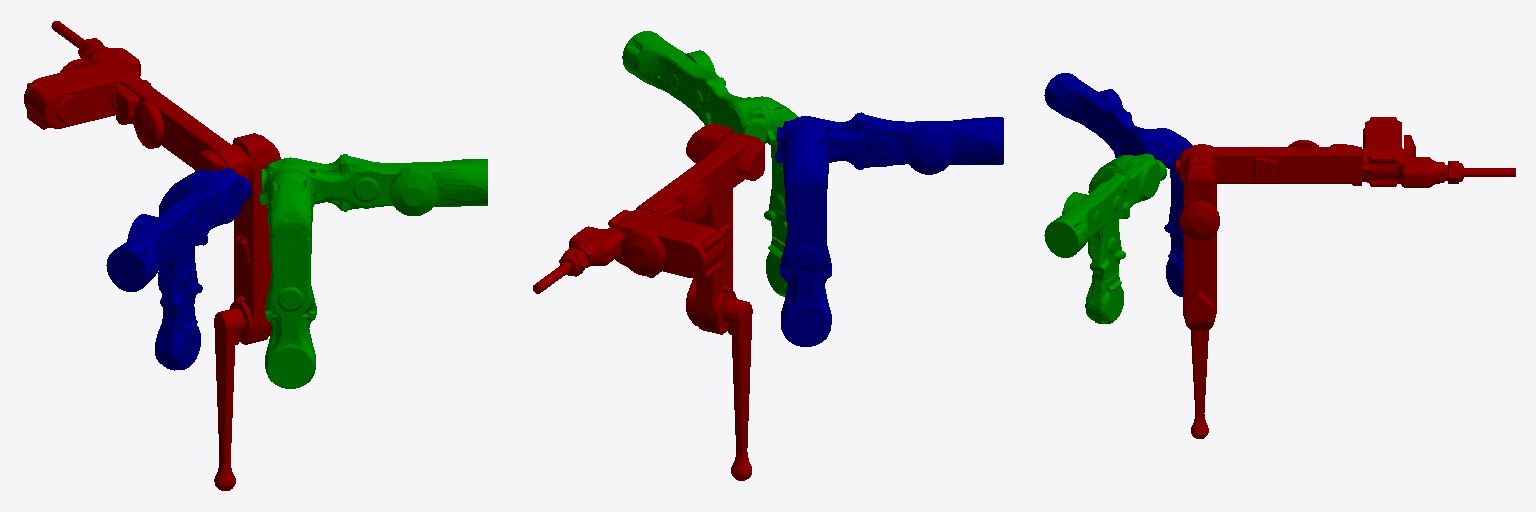
robot.urdf — finger_with_stage:
<?xml version="1.0" encoding="utf-8"?>
<!-- =================================================================================== -->
<!-- |    This document was autogenerated by xacro from [local-path]/ws/fingers/workspace/src/catkin/robots/robot_properties/robot_properties_fingers/xacro/trifinger.urdf.xacro | -->
<!-- |    EDITING THIS FILE BY HAND IS NOT RECOMMENDED                                 | -->
<!-- =================================================================================== -->
<robot name="finger_with_stage">
  <!--
    Frames are defined such that they all align with the base frame when all
    joints are at position zero.

    In zero-configuration the origins of all joints are in one line.

    In zero-configuration the origin of the base link is exactly above the
    finger tip which should make it easy to place the finger in the world.
    -->
  <!-- Define the global base_link and place all other objects relative to it. -->
  <link name="base_link">
    <inertial>
      <origin rpy="0 0 0" xyz="0 0 0"/>
      <mass value="1"/>
      <inertia ixx="4.16666666667e-06" ixy="0" ixz="0" iyy="4.16666666667e-06" iyz="0" izz="4.16666666667e-06"/>
    </inertial>
  </link>
  <!-- Define the upper holder -->
  <link name="upper_holder_link">
    <inertial>
      <origin rpy="0 0 0" xyz="0 0 0"/>
      <mass value="1"/>
      <inertia ixx="4.16666666667e-06" ixy="0" ixz="0" iyy="4.16666666667e-06" iyz="0" izz="4.16666666667e-06"/>
    </inertial>
  </link>
  <joint name="base_to_upper_holder_joint" type="fixed">
    <parent link="base_link"/>
    <child link="upper_holder_link"/>
    <origin xyz="0 0 0.34"/>
  </joint>
  <material name="finger_0_material">
    <color rgba="0.6 0.0 0.0 1.0"/>
  </material>
  <material name="finger_120_material">
    <color rgba="0.0 0.6 0.0 1.0"/>
  </material>
  <material name="finger_240_material">
    <color rgba="0.0 0.0 0.6 1.0"/>
  </material>
  <!--
        Fixed links for the finger base (parts where the upper link is mounted).
        -->
  <link name="finger_base_link_0">
    <visual>
      <origin rpy="0 0 0" xyz="0 0.179 0"/>
      <geometry>
        <mesh filename="package://robot_properties_fingers/meshes/stl/SIM__BL-Finger_Base.obj" scale="1 1 1"/>
      </geometry>
      <material name="finger_0_material"/>
    </visual>
    <collision>
      <origin rpy="0 0 0" xyz="0 0.179 0"/>
      <geometry>
        <mesh filename="package://robot_properties_fingers/meshes/stl/SIM__BL-Finger_Base.obj" scale="1 1 1"/>
      </geometry>
    </collision>
    <inertial>
      <origin rpy="0 0 0" xyz="0 0 0"/>
      <mass value="1"/>
      <inertia ixx="0.000416666666667" ixy="0" ixz="0" iyy="0.000416666666667" iyz="0" izz="0.000416666666667"/>
    </inertial>
  </link>
  <!-- The movable links (upper, middle and lower) of the finger. -->
  <!-- TODO inertia parameters don't look correct, they cant be same for upper and middle! -->
  <link name="finger_upper_link_0">
    <visual>
      <origin rpy="0 0 0" xyz="0 -0.02695 0"/>
      <geometry>
        <mesh filename="package://robot_properties_fingers/meshes/stl/SIM__BL-Finger_Proximal.obj" scale="1 1 1"/>
      </geometry>
      <material name="finger_0_material"/>
    </visual>
    <collision>
      <origin rpy="0 0 0" xyz="0 -0.02695 0"/>
      <geometry>
        <mesh filename="package://robot_properties_fingers/meshes/stl/SIM__BL-Finger_Proximal.obj" scale="1 1 1"/>
      </geometry>
    </collision>
    <inertial>
      <origin rpy="0 0 0" xyz="0 0.06 0"/>
      <mass value="0.2"/>
      <inertia ixx="0.000353333333333" ixy="0" ixz="0" iyy="5.33333333333e-05" iyz="0" izz="0.000353333333333"/>
    </inertial>
  </link>
  <link name="finger_middle_link_0">
    <visual>
      <origin rpy="1.57079632679 0 0" xyz="0.014 0 0"/>
      <geometry>
        <mesh filename="package://robot_properties_fingers/meshes/stl/SIM__BL-Finger_Intermediate.obj" scale="1 1 1"/>
      </geometry>
      <material name="finger_0_material"/>
    </visual>
    <collision>
      <origin rpy="1.57079632679 0 0" xyz="0.014 0 0"/>
      <geometry>
        <mesh filename="package://robot_properties_fingers/meshes/stl/SIM__BL-Finger_Intermediate.obj" scale="1 1 1"/>
      </geometry>
    </collision>
    <inertial>
      <origin rpy="0 0 0" xyz="0.028 0 -0.08"/>
      <mass value="0.2"/>
      <inertia ixx="0.000353333333333" ixy="0" ixz="0" iyy="0.000353333333333" iyz="0" izz="5.33333333333e-05"/>
    </inertial>
  </link>
  <link name="finger_lower_link_0">
    <visual>
      <origin rpy="1.57079632679 0 0" xyz="0.014 0 0"/>
      <geometry>
        <mesh filename="package://robot_properties_fingers/meshes/stl/SIM_BL_FINGER_TIP_LINK.obj" scale="1 1 1"/>
      </geometry>
      <material name="finger_0_material"/>
    </visual>
    <collision>
      <origin rpy="1.57079632679 0 0" xyz="0.014 0 0"/>
      <geometry>
        <mesh filename="package://robot_properties_fingers/meshes/convex_SIM_BL_FINGER_TIP_LINK/convex_0.obj" scale="1 1 1"/>
      </geometry>
    </collision>
    <collision>
      <origin rpy="1.57079632679 0 0" xyz="0.014 0 0"/>
      <geometry>
        <mesh filename="package://robot_properties_fingers/meshes/convex_SIM_BL_FINGER_TIP_LINK/convex_1.obj" scale="1 1 1"/>
      </geometry>
    </collision>
    <collision>
      <origin rpy="1.57079632679 0 0" xyz="0.014 0 0"/>
      <geometry>
        <mesh filename="package://robot_properties_fingers/meshes/convex_SIM_BL_FINGER_TIP_LINK/convex_2.obj" scale="1 1 1"/>
      </geometry>
    </collision>
    <collision>
      <origin rpy="1.57079632679 0 0" xyz="0.014 0 0"/>
      <geometry>
        <mesh filename="package://robot_properties_fingers/meshes/convex_SIM_BL_FINGER_TIP_LINK/convex_3.obj" scale="1 1 1"/>
      </geometry>
    </collision>
    <collision>
      <origin rpy="1.57079632679 0 0" xyz="0.014 0 0"/>
      <geometry>
        <mesh filename="package://robot_properties_fingers/meshes/convex_SIM_BL_FINGER_TIP_LINK/convex_4.obj" scale="1 1 1"/>
      </geometry>
    </collision>
    <inertial>
      <origin rpy="0 0 0" xyz="0 0 -0.06"/>
      <mass value="0.01"/>
      <inertia ixx="1.66666666667e-05" ixy="0" ixz="0" iyy="1.66666666667e-05" iyz="0" izz="6.66666666667e-07"/>
    </inertial>
  </link>
  <!-- fixed link for finger tip -->
  <link name="finger_tip_link_0">
    <inertial>
      <origin rpy="0 0 0" xyz="0 0 0"/>
      <mass value="0.02"/>
      <inertia ixx="3.33333333333e-07" ixy="0" ixz="0" iyy="3.33333333333e-07" iyz="0" izz="3.33333333333e-07"/>
    </inertial>
  </link>
  <joint name="finger_lower_to_tip_joint_0" type="fixed">
    <parent link="finger_lower_link_0"/>
    <child link="finger_tip_link_0"/>
    <origin xyz="0 0 -0.16"/>
  </joint>
  <!-- kinematics -->
  <!-- TODO: joint limits are based on values from wiki
        (https://atlas.is.localnet/confluence/display/AMDW/Forward+Kinematics) but
        should be verified on the real system (especially the finger tip limits look
        a bit too big when visualizing the model. -->
  <joint name="finger_base_to_upper_joint_0" type="revolute">
    <parent link="finger_base_link_0"/>
    <child link="finger_upper_link_0"/>
    <limit effort="1000" lower="-1.57079632679" upper="1.57079632679" velocity="1000"/>
    <axis xyz="0 1 0"/>
    <origin rpy="0 0 0" xyz="0 0 0"/>
  </joint>
  <joint name="finger_upper_to_middle_joint_0" type="revolute">
    <parent link="finger_upper_link_0"/>
    <child link="finger_middle_link_0"/>
    <limit effort="1000" lower="-1.3526301703" upper="4.49422282389" velocity="1000"/>
    <axis xyz="-1 0 0"/>
    <origin rpy="0 0 0" xyz="0 0 0"/>
  </joint>
  <joint name="finger_middle_to_lower_joint_0" type="revolute">
    <parent link="finger_middle_link_0"/>
    <child link="finger_lower_link_0"/>
    <limit effort="1000" lower="-3.00196631343" upper="3.00196631343" velocity="1000"/>
    <axis xyz="1 0 0"/>
    <origin rpy="0 0 0" xyz="0 0 -0.16"/>
  </joint>
  <!--
        Fixed links for the finger base (parts where the upper link is mounted).
        -->
  <link name="finger_base_link_120">
    <visual>
      <origin rpy="0 0 0" xyz="0 0.179 0"/>
      <geometry>
        <mesh filename="package://robot_properties_fingers/meshes/stl/SIM__BL-Finger_Base.stl" scale="1 1 1"/>
      </geometry>
      <material name="finger_120_material"/>
    </visual>
    <collision>
      <origin rpy="0 0 0" xyz="0 0.179 0"/>
      <geometry>
        <mesh filename="package://robot_properties_fingers/meshes/stl/SIM__BL-Finger_Base.stl" scale="1 1 1"/>
      </geometry>
    </collision>
    <inertial>
      <origin rpy="0 0 0" xyz="0 0 0"/>
      <mass value="1"/>
      <inertia ixx="0.000416666666667" ixy="0" ixz="0" iyy="0.000416666666667" iyz="0" izz="0.000416666666667"/>
    </inertial>
  </link>
  <!-- The movable links (upper, middle and lower) of the finger. -->
  <!-- TODO inertia parameters don't look correct, they cant be same for upper and middle! -->
  <link name="finger_upper_link_120">
    <visual>
      <origin rpy="0 0 0" xyz="0 -0.02695 0"/>
      <geometry>
        <mesh filename="package://robot_properties_fingers/meshes/stl/SIM__BL-Finger_Proximal.stl" scale="1 1 1"/>
      </geometry>
      <material name="finger_120_material"/>
    </visual>
    <collision>
      <origin rpy="0 0 0" xyz="0 -0.02695 0"/>
      <geometry>
        <mesh filename="package://robot_properties_fingers/meshes/stl/SIM__BL-Finger_Proximal.stl" scale="1 1 1"/>
      </geometry>
    </collision>
    <inertial>
      <origin rpy="0 0 0" xyz="0 0.06 0"/>
      <mass value="0.2"/>
      <inertia ixx="0.000353333333333" ixy="0" ixz="0" iyy="5.33333333333e-05" iyz="0" izz="0.000353333333333"/>
    </inertial>
  </link>
  <link name="finger_middle_link_120">
    <visual>
      <origin rpy="1.57079632679 0 0" xyz="0.014 0 0"/>
      <geometry>
        <mesh filename="package://robot_properties_fingers/meshes/stl/SIM__BL-Finger_Intermediate.stl" scale="1 1 1"/>
      </geometry>
      <material name="finger_120_material"/>
    </visual>
    <collision>
      <origin rpy="1.57079632679 0 0" xyz="0.014 0 0"/>
      <geometry>
        <mesh filename="package://robot_properties_fingers/meshes/stl/SIM__BL-Finger_Intermediate.stl" scale="1 1 1"/>
      </geometry>
    </collision>
    <inertial>
      <origin rpy="0 0 0" xyz="0.028 0 -0.08"/>
      <mass value="0.2"/>
      <inertia ixx="0.000353333333333" ixy="0" ixz="0" iyy="0.000353333333333" iyz="0" izz="5.33333333333e-05"/>
    </inertial>
  </link>
  <link name="finger_lower_link_120">
    <visual>
      <origin rpy="1.57079632679 0 0" xyz="0.014 0 0"/>
      <geometry>
        <mesh filename="package://robot_properties_fingers/meshes/stl/SIM_BL_FINGER_TIP_LINK.stl" scale="1 1 1"/>
      </geometry>
      <material name="finger_120_material"/>
    </visual>
    <collision>
      <origin rpy="1.57079632679 0 0" xyz="0.014 0 0"/>
      <geometry>
        <mesh filename="package://robot_properties_fingers/meshes/convex_SIM_BL_FINGER_TIP_LINK/convex_0.obj" scale="1 1 1"/>
      </geometry>
    </collision>
    <collision>
      <origin rpy="1.57079632679 0 0" xyz="0.014 0 0"/>
      <geometry>
        <mesh filename="package://robot_properties_fingers/meshes/convex_SIM_BL_FINGER_TIP_LINK/convex_1.obj" scale="1 1 1"/>
      </geometry>
    </collision>
    <collision>
      <origin rpy="1.57079632679 0 0" xyz="0.014 0 0"/>
      <geometry>
        <mesh filename="package://robot_properties_fingers/meshes/convex_SIM_BL_FINGER_TIP_LINK/convex_2.obj" scale="1 1 1"/>
      </geometry>
    </collision>
    <collision>
      <origin rpy="1.57079632679 0 0" xyz="0.014 0 0"/>
      <geometry>
        <mesh filename="package://robot_properties_fingers/meshes/convex_SIM_BL_FINGER_TIP_LINK/convex_3.obj" scale="1 1 1"/>
      </geometry>
    </collision>
    <collision>
      <origin rpy="1.57079632679 0 0" xyz="0.014 0 0"/>
      <geometry>
        <mesh filename="package://robot_properties_fingers/meshes/convex_SIM_BL_FINGER_TIP_LINK/convex_4.obj" scale="1 1 1"/>
      </geometry>
    </collision>
    <inertial>
      <origin rpy="0 0 0" xyz="0 0 -0.06"/>
      <mass value="0.01"/>
      <inertia ixx="1.66666666667e-05" ixy="0" ixz="0" iyy="1.66666666667e-05" iyz="0" izz="6.66666666667e-07"/>
    </inertial>
  </link>
  <!-- fixed link for finger tip -->
  <link name="finger_tip_link_120">
    <inertial>
      <origin rpy="0 0 0" xyz="0 0 0"/>
      <mass value="0.02"/>
      <inertia ixx="3.33333333333e-07" ixy="0" ixz="0" iyy="3.33333333333e-07" iyz="0" izz="3.33333333333e-07"/>
    </inertial>
  </link>
  <joint name="finger_lower_to_tip_joint_120" type="fixed">
    <parent link="finger_lower_link_120"/>
    <child link="finger_tip_link_120"/>
    <origin xyz="0 0 -0.16"/>
  </joint>
  <!-- kinematics -->
  <!-- TODO: joint limits are based on values from wiki
        (https://atlas.is.localnet/confluence/display/AMDW/Forward+Kinematics) but
        should be verified on the real system (especially the finger tip limits look
        a bit too big when visualizing the model. -->
  <joint name="finger_base_to_upper_joint_120" type="revolute">
    <parent link="finger_base_link_120"/>
    <child link="finger_upper_link_120"/>
    <limit effort="1000" lower="-1.57079632679" upper="1.57079632679" velocity="1000"/>
    <axis xyz="0 1 0"/>
    <origin rpy="0 0 0" xyz="0 0 0"/>
  </joint>
  <joint name="finger_upper_to_middle_joint_120" type="revolute">
    <parent link="finger_upper_link_120"/>
    <child link="finger_middle_link_120"/>
    <limit effort="1000" lower="-1.3526301703" upper="4.49422282389" velocity="1000"/>
    <axis xyz="-1 0 0"/>
    <origin rpy="0 0 0" xyz="0 0 0"/>
  </joint>
  <joint name="finger_middle_to_lower_joint_120" type="revolute">
    <parent link="finger_middle_link_120"/>
    <child link="finger_lower_link_120"/>
    <limit effort="1000" lower="-3.00196631343" upper="3.00196631343" velocity="1000"/>
    <axis xyz="1 0 0"/>
    <origin rpy="0 0 0" xyz="0 0 -0.16"/>
  </joint>
  <!--
        Fixed links for the finger base (parts where the upper link is mounted).
        -->
  <link name="finger_base_link_240">
    <visual>
      <origin rpy="0 0 0" xyz="0 0.179 0"/>
      <geometry>
        <mesh filename="package://robot_properties_fingers/meshes/stl/SIM__BL-Finger_Base.stl" scale="1 1 1"/>
      </geometry>
      <material name="finger_240_material"/>
    </visual>
    <collision>
      <origin rpy="0 0 0" xyz="0 0.179 0"/>
      <geometry>
        <mesh filename="package://robot_properties_fingers/meshes/stl/SIM__BL-Finger_Base.stl" scale="1 1 1"/>
      </geometry>
    </collision>
    <inertial>
      <origin rpy="0 0 0" xyz="0 0 0"/>
      <mass value="1"/>
      <inertia ixx="0.000416666666667" ixy="0" ixz="0" iyy="0.000416666666667" iyz="0" izz="0.000416666666667"/>
    </inertial>
  </link>
  <!-- The movable links (upper, middle and lower) of the finger. -->
  <!-- TODO inertia parameters don't look correct, they cant be same for upper and middle! -->
  <link name="finger_upper_link_240">
    <visual>
      <origin rpy="0 0 0" xyz="0 -0.02695 0"/>
      <geometry>
        <mesh filename="package://robot_properties_fingers/meshes/stl/SIM__BL-Finger_Proximal.stl" scale="1 1 1"/>
      </geometry>
      <material name="finger_240_material"/>
    </visual>
    <collision>
      <origin rpy="0 0 0" xyz="0 -0.02695 0"/>
      <geometry>
        <mesh filename="package://robot_properties_fingers/meshes/stl/SIM__BL-Finger_Proximal.stl" scale="1 1 1"/>
      </geometry>
    </collision>
    <inertial>
      <origin rpy="0 0 0" xyz="0 0.06 0"/>
      <mass value="0.2"/>
      <inertia ixx="0.000353333333333" ixy="0" ixz="0" iyy="5.33333333333e-05" iyz="0" izz="0.000353333333333"/>
    </inertial>
  </link>
  <link name="finger_middle_link_240">
    <visual>
      <origin rpy="1.57079632679 0 0" xyz="0.014 0 0"/>
      <geometry>
        <mesh filename="package://robot_properties_fingers/meshes/stl/SIM__BL-Finger_Intermediate.stl" scale="1 1 1"/>
      </geometry>
      <material name="finger_240_material"/>
    </visual>
    <collision>
      <origin rpy="1.57079632679 0 0" xyz="0.014 0 0"/>
      <geometry>
        <mesh filename="package://robot_properties_fingers/meshes/stl/SIM__BL-Finger_Intermediate.stl" scale="1 1 1"/>
      </geometry>
    </collision>
    <inertial>
      <origin rpy="0 0 0" xyz="0.028 0 -0.08"/>
      <mass value="0.2"/>
      <inertia ixx="0.000353333333333" ixy="0" ixz="0" iyy="0.000353333333333" iyz="0" izz="5.33333333333e-05"/>
    </inertial>
  </link>
  <link name="finger_lower_link_240">
    <visual>
      <origin rpy="1.57079632679 0 0" xyz="0.014 0 0"/>
      <geometry>
        <mesh filename="package://robot_properties_fingers/meshes/stl/SIM_BL_FINGER_TIP_LINK.stl" scale="1 1 1"/>
      </geometry>
      <material name="finger_240_material"/>
    </visual>
    <collision>
      <origin rpy="1.57079632679 0 0" xyz="0.014 0 0"/>
      <geometry>
        <mesh filename="package://robot_properties_fingers/meshes/convex_SIM_BL_FINGER_TIP_LINK/convex_0.obj" scale="1 1 1"/>
      </geometry>
    </collision>
    <collision>
      <origin rpy="1.57079632679 0 0" xyz="0.014 0 0"/>
      <geometry>
        <mesh filename="package://robot_properties_fingers/meshes/convex_SIM_BL_FINGER_TIP_LINK/convex_1.obj" scale="1 1 1"/>
      </geometry>
    </collision>
    <collision>
      <origin rpy="1.57079632679 0 0" xyz="0.014 0 0"/>
      <geometry>
        <mesh filename="package://robot_properties_fingers/meshes/convex_SIM_BL_FINGER_TIP_LINK/convex_2.obj" scale="1 1 1"/>
      </geometry>
    </collision>
    <collision>
      <origin rpy="1.57079632679 0 0" xyz="0.014 0 0"/>
      <geometry>
        <mesh filename="package://robot_properties_fingers/meshes/convex_SIM_BL_FINGER_TIP_LINK/convex_3.obj" scale="1 1 1"/>
      </geometry>
    </collision>
    <collision>
      <origin rpy="1.57079632679 0 0" xyz="0.014 0 0"/>
      <geometry>
        <mesh filename="package://robot_properties_fingers/meshes/convex_SIM_BL_FINGER_TIP_LINK/convex_4.obj" scale="1 1 1"/>
      </geometry>
    </collision>
    <inertial>
      <origin rpy="0 0 0" xyz="0 0 -0.06"/>
      <mass value="0.01"/>
      <inertia ixx="1.66666666667e-05" ixy="0" ixz="0" iyy="1.66666666667e-05" iyz="0" izz="6.66666666667e-07"/>
    </inertial>
  </link>
  <!-- fixed link for finger tip -->
  <link name="finger_tip_link_240">
    <inertial>
      <origin rpy="0 0 0" xyz="0 0 0"/>
      <mass value="0.02"/>
      <inertia ixx="3.33333333333e-07" ixy="0" ixz="0" iyy="3.33333333333e-07" iyz="0" izz="3.33333333333e-07"/>
    </inertial>
  </link>
  <joint name="finger_lower_to_tip_joint_240" type="fixed">
    <parent link="finger_lower_link_240"/>
    <child link="finger_tip_link_240"/>
    <origin xyz="0 0 -0.16"/>
  </joint>
  <!-- kinematics -->
  <!-- TODO: joint limits are based on values from wiki
        (https://atlas.is.localnet/confluence/display/AMDW/Forward+Kinematics) but
        should be verified on the real system (especially the finger tip limits look
        a bit too big when visualizing the model. -->
  <joint name="finger_base_to_upper_joint_240" type="revolute">
    <parent link="finger_base_link_240"/>
    <child link="finger_upper_link_240"/>
    <limit effort="1000" lower="-1.57079632679" upper="1.57079632679" velocity="1000"/>
    <axis xyz="0 1 0"/>
    <origin rpy="0 0 0" xyz="0 0 0"/>
  </joint>
  <joint name="finger_upper_to_middle_joint_240" type="revolute">
    <parent link="finger_upper_link_240"/>
    <child link="finger_middle_link_240"/>
    <limit effort="1000" lower="-1.3526301703" upper="4.49422282389" velocity="1000"/>
    <axis xyz="-1 0 0"/>
    <origin rpy="0 0 0" xyz="0 0 0"/>
  </joint>
  <joint name="finger_middle_to_lower_joint_240" type="revolute">
    <parent link="finger_middle_link_240"/>
    <child link="finger_lower_link_240"/>
    <limit effort="1000" lower="-3.00196631343" upper="3.00196631343" velocity="1000"/>
    <axis xyz="1 0 0"/>
    <origin rpy="0 0 0" xyz="0 0 -0.16"/>
  </joint>
  <joint name="holder_to_finger_0" type="fixed">
    <parent link="upper_holder_link"/>
    <child link="finger_base_link_0"/>
    <origin rpy="0 0 0" xyz="0.0 0.04 0"/>
  </joint>
  <joint name="holder_to_finger_120" type="fixed">
    <parent link="upper_holder_link"/>
    <child link="finger_base_link_120"/>
    <origin rpy="0 0 -2.09439510239" xyz="0.0346410161514 -0.02 0"/>
  </joint>
  <joint name="holder_to_finger_240" type="fixed">
    <parent link="upper_holder_link"/>
    <child link="finger_base_link_240"/>
    <origin rpy="0 0 -4.18879020479" xyz="-0.0346410161514 -0.02 0"/>
  </joint>
</robot>

--- Facts derived from the render (not from the file) ---
The picture shows the robot from 3 angles, left to right: view 1: azimuth 30°, elevation 25°; view 2: azimuth 150°, elevation 25°; view 3: azimuth 270°, elevation 25°; orthographic projection.
Model finger_with_stage with 17 links and 16 joints (9 revolute, 7 fixed), rooted at base_link, posed all joints at 0.
Visible links, largest first — view 1: finger_middle_link_120, finger_upper_link_120, finger_upper_link_240, finger_base_link_0, finger_upper_link_0, finger_middle_link_0, finger_middle_link_240, finger_lower_link_0; view 2: finger_middle_link_240, finger_upper_link_240, finger_base_link_0, finger_upper_link_120, finger_upper_link_0, finger_middle_link_0, finger_lower_link_0, finger_middle_link_120; view 3: finger_upper_link_0, finger_middle_link_0, finger_upper_link_120, finger_base_link_0, finger_upper_link_240, finger_middle_link_120, finger_middle_link_240, finger_lower_link_0.
Link boxes in pixels (x1=…): finger_middle_link_120: x1=259, y1=168, x2=316, y2=388; finger_upper_link_120: x1=261, y1=154, x2=487, y2=215; finger_upper_link_240: x1=106, y1=168, x2=251, y2=291; finger_base_link_0: x1=24, y1=21, x2=150, y2=129; finger_upper_link_0: x1=116, y1=77, x2=249, y2=181; finger_middle_link_0: x1=230, y1=133, x2=280, y2=344; finger_middle_link_240: x1=155, y1=170, x2=212, y2=370; finger_lower_link_0: x1=214, y1=308, x2=244, y2=490; finger_middle_link_240: x1=775, y1=127, x2=831, y2=346; finger_upper_link_240: x1=777, y1=112, x2=1003, y2=174; finger_base_link_0: x1=533, y1=209, x2=725, y2=293; finger_upper_link_120: x1=622, y1=31, x2=767, y2=142; finger_upper_link_0: x1=636, y1=133, x2=764, y2=224; finger_middle_link_0: x1=686, y1=123, x2=736, y2=334; finger_lower_link_0: x1=722, y1=298, x2=752, y2=480; finger_middle_link_120: x1=754, y1=96, x2=797, y2=296; finger_upper_link_0: x1=1176, y1=140, x2=1361, y2=185; finger_middle_link_0: x1=1180, y1=153, x2=1219, y2=329; finger_upper_link_120: x1=1044, y1=153, x2=1166, y2=257; finger_base_link_0: x1=1362, y1=117, x2=1515, y2=187; finger_upper_link_240: x1=1044, y1=73, x2=1167, y2=165; finger_middle_link_120: x1=1085, y1=155, x2=1133, y2=323; finger_middle_link_240: x1=1155, y1=128, x2=1192, y2=296; finger_lower_link_0: x1=1191, y1=330, x2=1208, y2=438.
Size in the robot's own frame: 0.4069 by 0.5155 by 0.3555 metres.
8 mesh visuals loaded from 8 distinct referenced files (2 binary STL, 4 OBJ); not drawn: 4 (reference not matched to a file when rendering).
